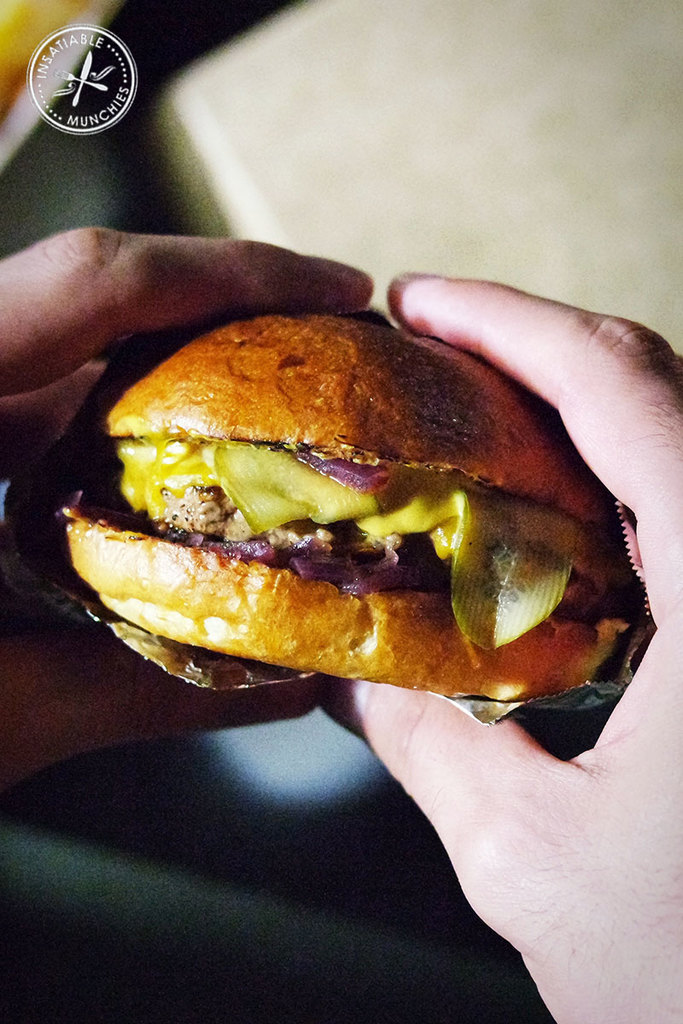Hamburger: (52, 317, 626, 703)
